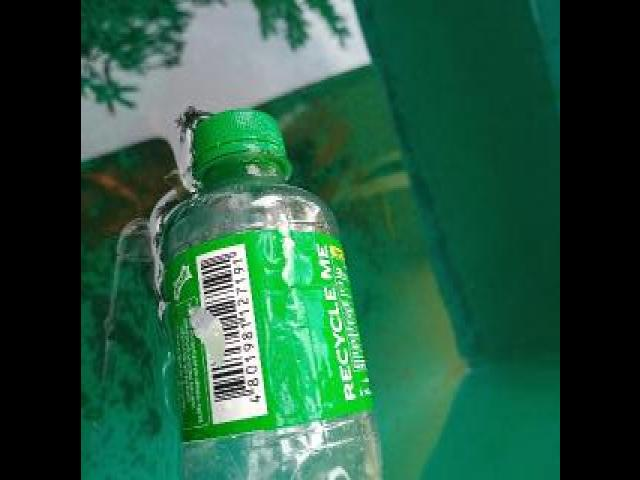Bottle: (157, 109, 382, 480)
